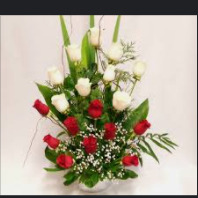RedRose: (27, 100, 56, 116), (121, 154, 145, 170), (82, 139, 102, 158), (65, 115, 84, 134), (87, 102, 108, 119), (102, 123, 124, 139), (51, 154, 78, 167), (136, 122, 152, 138), (48, 142, 65, 150)
